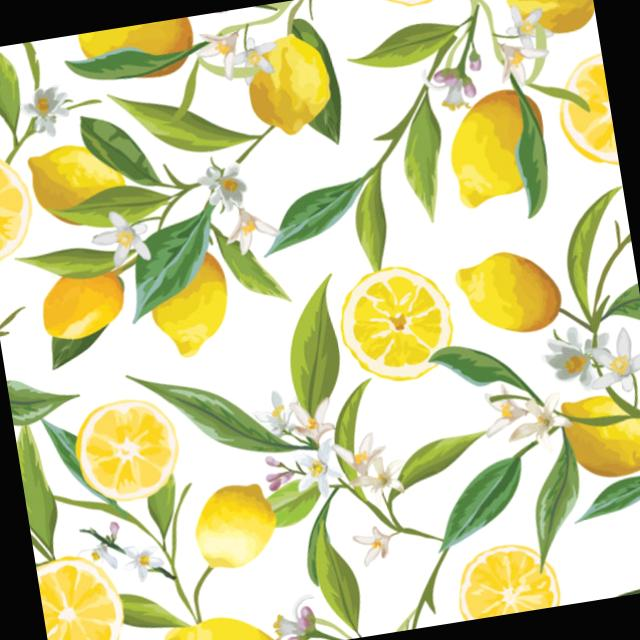lemon: (441, 80, 551, 217), (451, 232, 568, 344), (238, 26, 335, 142)
